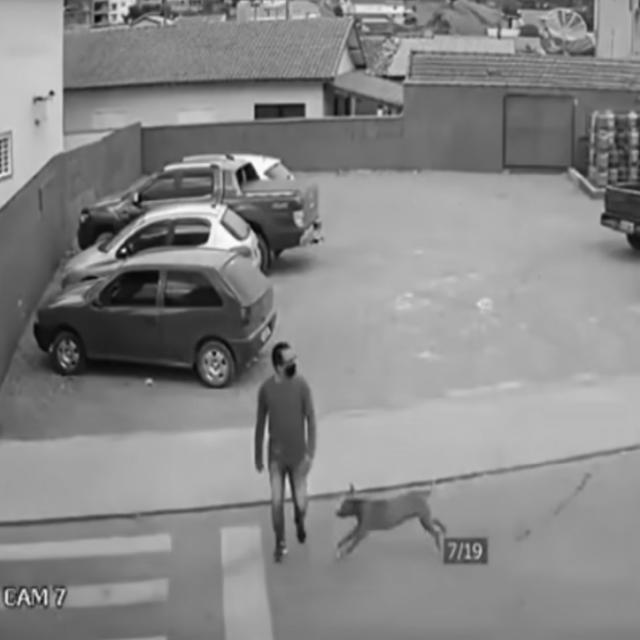Invader: (253, 340, 317, 563)
